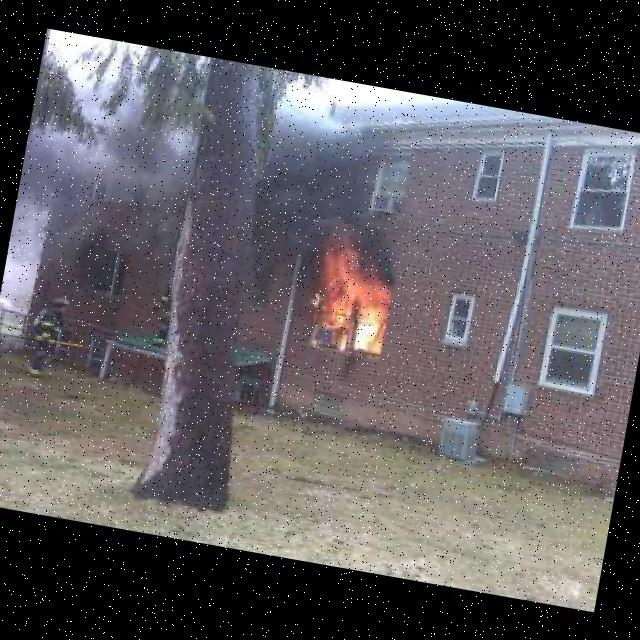fire: (291, 217, 404, 361)
